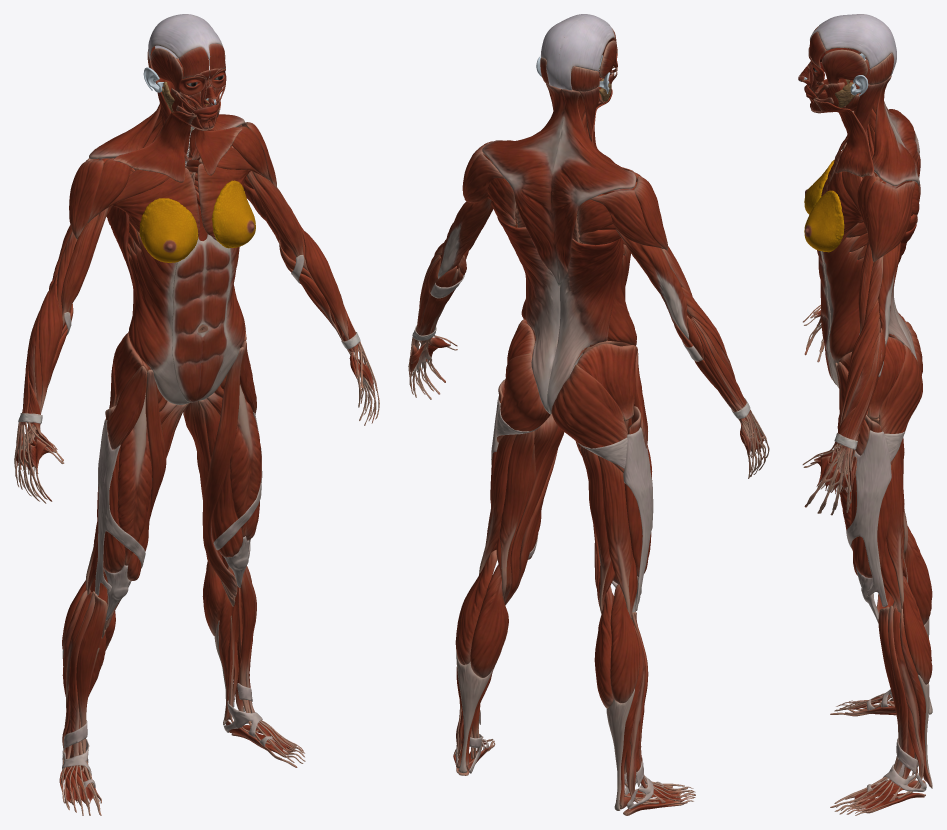
Rendered from core.glb.
3 views of the same model, side by side, from view 1: azimuth 30°, elevation 25°; view 2: azimuth 150°, elevation 25°; view 3: azimuth 270°, elevation 25° (orthographic). The views are drawn at different scales.
Visible parts, largest first — view 1: Rectus_Abdominis_m, External_Oblique_r, Sartorius_l, Rectus_Femoris_r, Breasts_r, Rectus_Femoris_l, Platysma_r, Iliotibial_Tract_IT_Band__r, Breasts_l, Tibialis_Anterior_r, Biceps_Brachii_r, Biceps_Brachii_l (+31 smaller); view 2: Latissimus_Dorsi_r, Trapezius_r, Trapezius_l, Latissimus_Dorsi_l, Gluteus_Maximus_r, Biceps_Femoris_Long_Head__r, Gluteus_Medius_r, Gluteus_Maximus_l, Gastrocnemius_Lateral_Head_l, Gastrocnemius_Medial_Head_r, Semitendinosus_l, Epicranial_Aponeurosis_001_r (+27 smaller); view 3: Iliotibial_Tract_IT_Band__l, External_Oblique_l, Epicranial_Aponeurosis_001_l, Trapezius_l, Gluteus_Maximus_l, Deltoid_Middle_l, Platysma_l, Breasts_l, Biceps_Femoris_Long_Head__l, Vastus_Lateralis_l, Gastrocnemius_Medial_Head_l, Extensor_Digitorum_Longus_l (+46 smaller).
Boxes of the visible parts, x1,y1,x2,y2 form: Rectus_Abdominis_m: (172, 234, 230, 402); External_Oblique_r: (128, 230, 189, 404); Sartorius_l: (202, 347, 244, 596); Rectus_Femoris_r: (117, 393, 152, 565); Breasts_r: (139, 198, 198, 262); Rectus_Femoris_l: (229, 384, 260, 537); Platysma_r: (113, 111, 207, 182); Iliotibial_Tract_IT_Band__r: (95, 419, 145, 595); Breasts_l: (211, 180, 255, 248); Tibialis_Anterior_r: (76, 593, 107, 786); Biceps_Brachii_r: (61, 207, 108, 326); Biceps_Brachii_l: (247, 171, 308, 271); Latissimus_Dorsi_r: (547, 238, 623, 414); Trapezius_r: (551, 89, 636, 286); Trapezius_l: (482, 84, 564, 287); Latissimus_Dorsi_l: (492, 163, 560, 413); Gluteus_Maximus_r: (551, 364, 627, 472); Biceps_Femoris_Long_Head__r: (597, 455, 631, 614); Gluteus_Medius_r: (577, 343, 637, 420); Gluteus_Maximus_l: (497, 353, 550, 442); Gastrocnemius_Lateral_Head_l: (470, 564, 508, 677); Gastrocnemius_Medial_Head_r: (610, 584, 639, 703); Semitendinosus_l: (499, 431, 534, 598); Epicranial_Aponeurosis_001_r: (557, 14, 614, 90); Iliotibial_Tract_IT_Band__l: (846, 430, 891, 606); External_Oblique_l: (822, 223, 864, 387); Epicranial_Aponeurosis_001_l: (810, 17, 896, 75); Trapezius_l: (872, 75, 920, 200); Gluteus_Maximus_l: (879, 344, 922, 464); Deltoid_Middle_l: (866, 180, 899, 261); Platysma_l: (811, 99, 874, 176); Breasts_l: (804, 190, 844, 252); Biceps_Femoris_Long_Head__l: (886, 448, 904, 608); Vastus_Lateralis_l: (851, 414, 891, 577); Gastrocnemius_Medial_Head_l: (902, 580, 932, 684); Extensor_Digitorum_Longus_l: (836, 605, 907, 813).
Size of the model in its own units: 0.8086 by 1.68 by 0.2753.
Materials: 6 (6 with a texture image).
